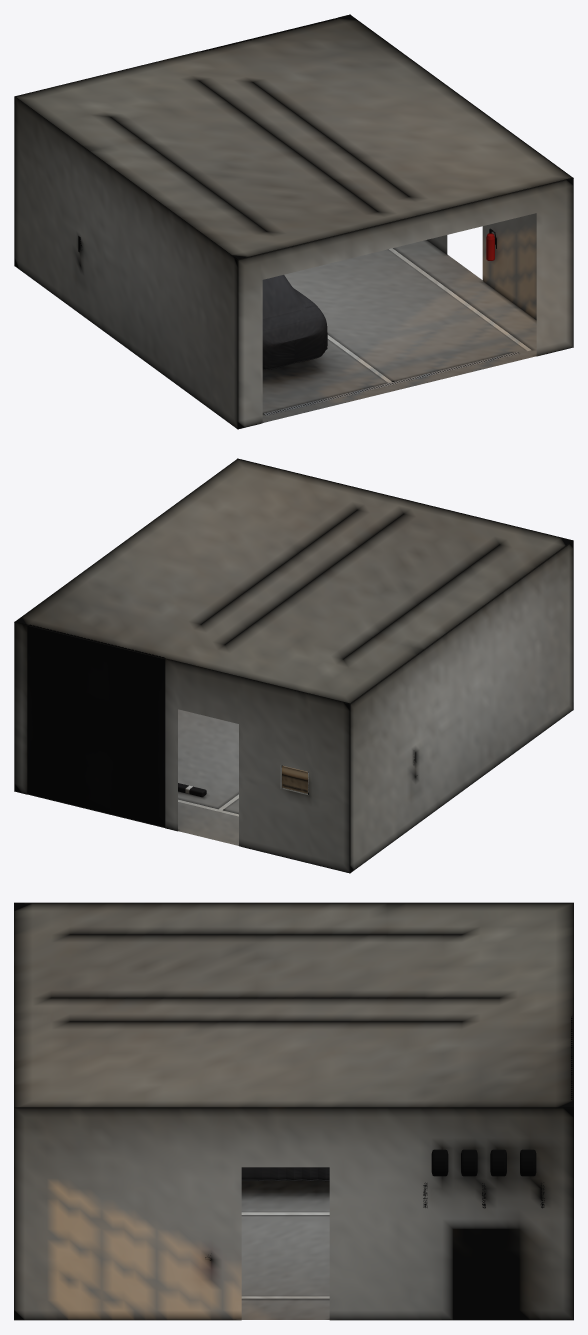
The model's file is garage.glb.
3 views of the same model, one above another, from view 1: azimuth 30°, elevation 25°; view 2: azimuth 150°, elevation 25°; view 3: azimuth 270°, elevation 25° (orthographic). The views are drawn at different scales.
Visible parts, largest first — view 1: garage__ground__vtx, garage__upper__vtx; view 2: garage__ground__vtx, garage__upper__vtx; view 3: garage__ground__vtx, garage__upper__vtx.
Boxes of the visible parts, box(x1,y1,x2,y2) form: garage__ground__vtx: box(14, 14, 573, 429); garage__upper__vtx: box(14, 15, 573, 260); garage__ground__vtx: box(14, 458, 573, 873); garage__upper__vtx: box(14, 459, 573, 704); garage__ground__vtx: box(14, 902, 573, 1320); garage__upper__vtx: box(14, 903, 573, 1108).
Bounding box in the file's own units: 6.68 × 3.2 × 7.63.
